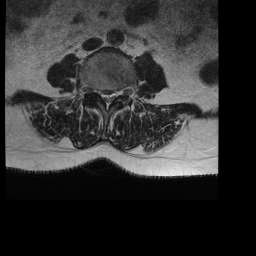CCS_normal: (104, 87, 110, 115)
LFS_normal: (116, 81, 122, 101)
LLS_normal: (110, 87, 116, 106)
RFS_normal: (93, 81, 99, 99)
RLS_stenosis: (99, 85, 104, 104)
